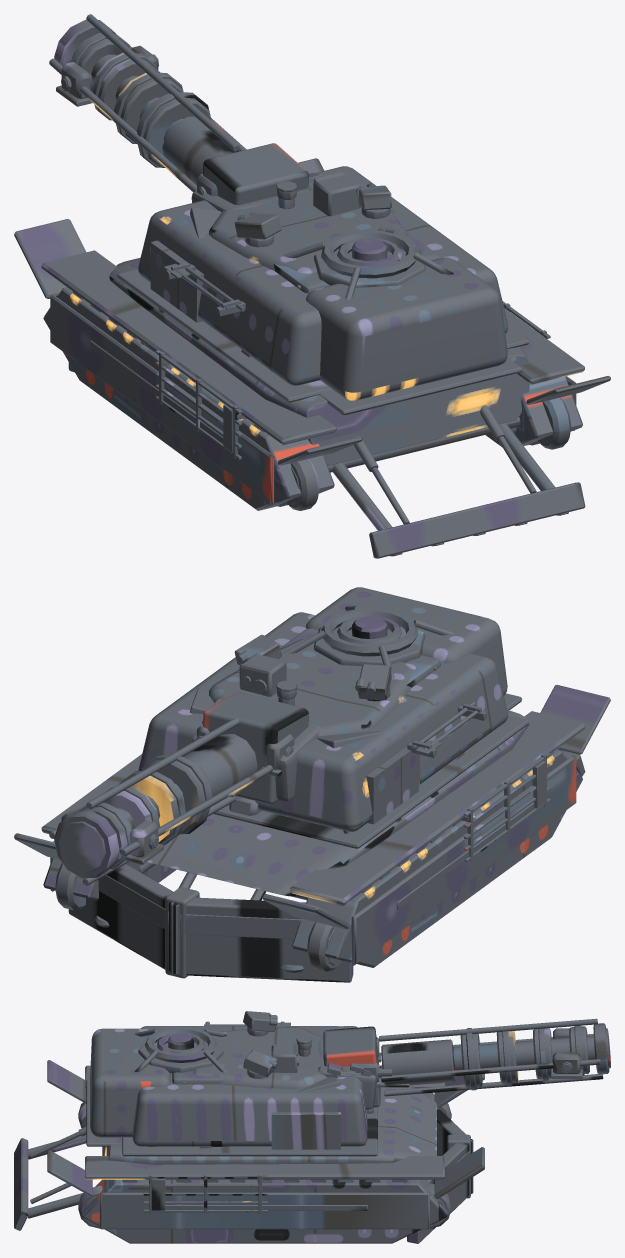
Rendered from GravitasBreaker_Atlas.fbx.
The picture shows the model from 3 angles, top to bottom: view 1: azimuth 30°, elevation 25°; view 2: azimuth 150°, elevation 25°; view 3: azimuth 270°, elevation 25°; orthographic projection. The views are drawn at different scales.
Parts seen in each view (by area): view 1: GravitasBreaker_UnifiedMesh; view 2: GravitasBreaker_UnifiedMesh; view 3: GravitasBreaker_UnifiedMesh.
Boxes of the visible parts, x1=… form: GravitasBreaker_UnifiedMesh: x1=14, y1=14, x2=610, y2=558; GravitasBreaker_UnifiedMesh: x1=14, y1=587, x2=610, y2=982; GravitasBreaker_UnifiedMesh: x1=14, y1=1011, x2=610, y2=1243.
Size of the model in its own units: 274 by 197 by 605.
Materials: 1 (1 with a texture image).
